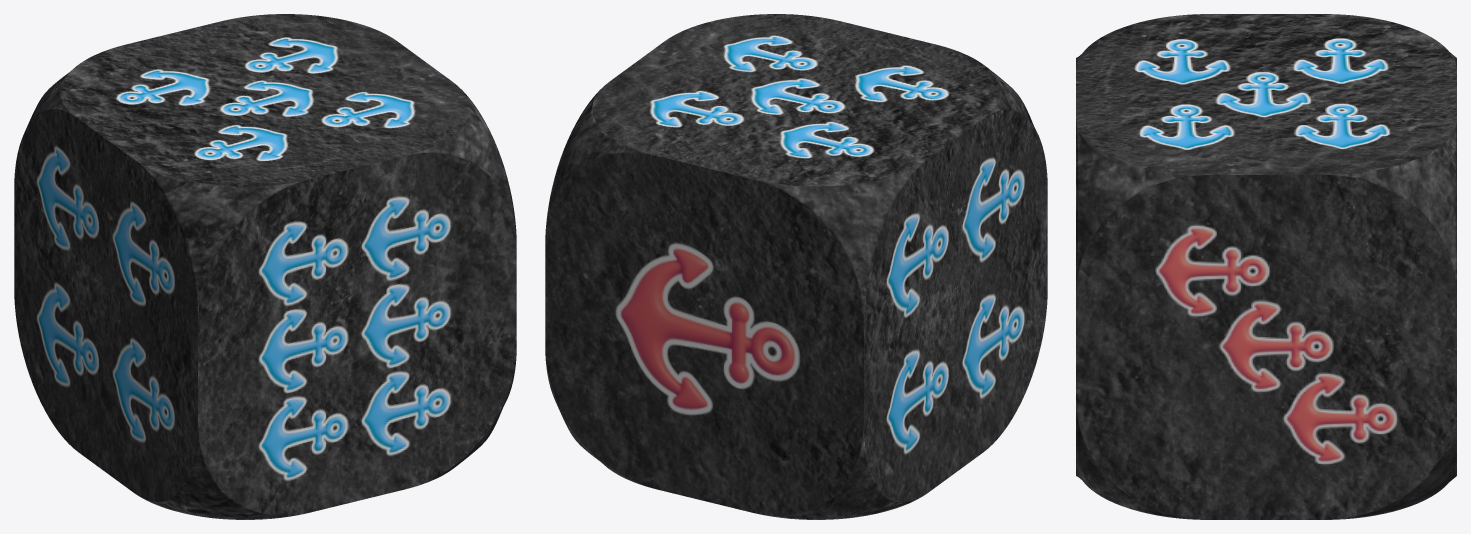
Rendered from Dice_body_NS.fbx.
3 views of the same model, side by side, from view 1: azimuth 30°, elevation 25°; view 2: azimuth 150°, elevation 25°; view 3: azimuth 270°, elevation 25° (orthographic). The views are drawn at different scales.
Parts seen in each view (by area): view 1: Dice_NS; view 2: Dice_NS; view 3: Dice_NS.
Part boxes in pixels (x1=…): Dice_NS: x1=14, y1=14, x2=516, y2=519; Dice_NS: x1=545, y1=14, x2=1047, y2=519; Dice_NS: x1=1076, y1=14, x2=1456, y2=519.
Size of the model in its own units: 2 by 2 by 2.
